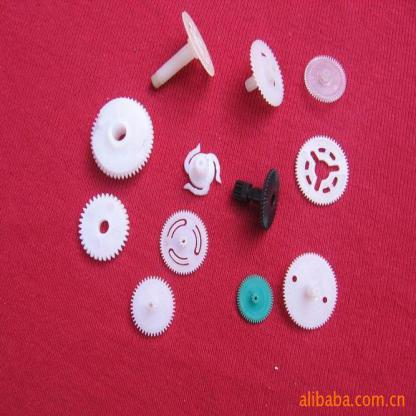FOD: (88, 93, 155, 182), (282, 252, 338, 330), (294, 132, 350, 208), (78, 191, 132, 264), (160, 208, 209, 276), (128, 274, 176, 338), (243, 35, 285, 108), (302, 52, 348, 104), (235, 273, 274, 326)
